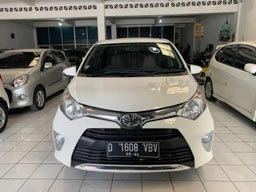plat: (107, 143, 157, 152)
